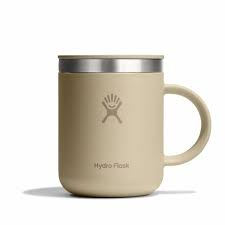mug: (44, 41, 215, 210)
